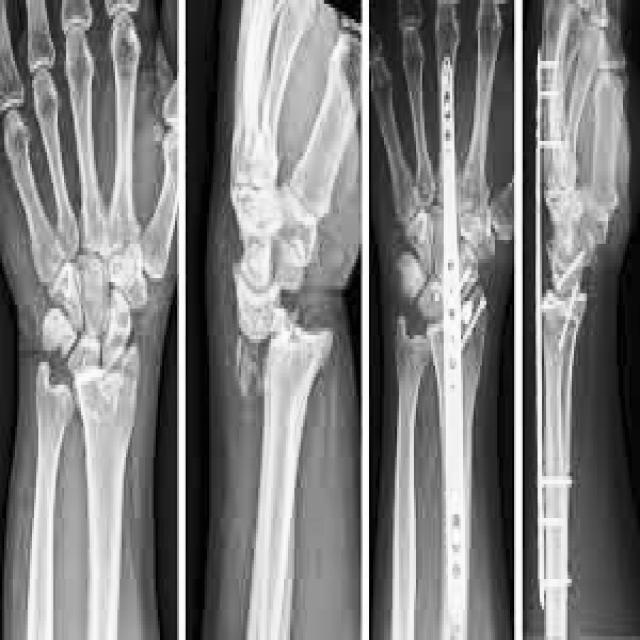Fracture Dislocation: (228, 300, 346, 363), (41, 358, 85, 408), (392, 310, 438, 354)
